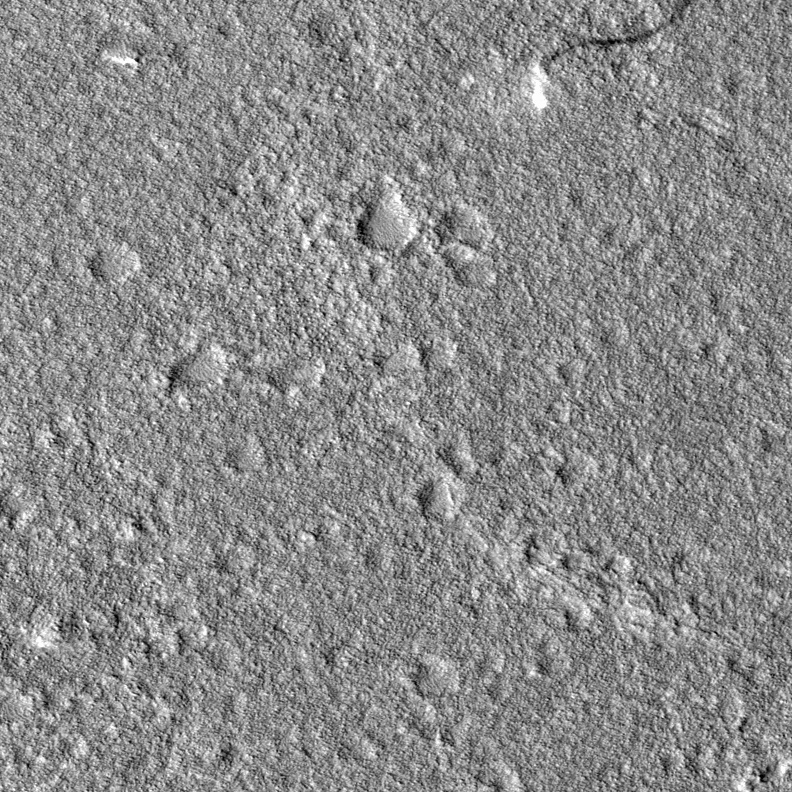dust_devil: (529, 0, 702, 111)
